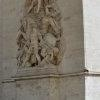Statue: (10, 2, 69, 75)
